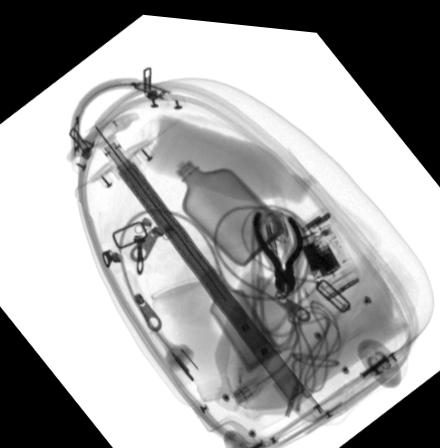Pliers: (249, 206, 303, 290)
